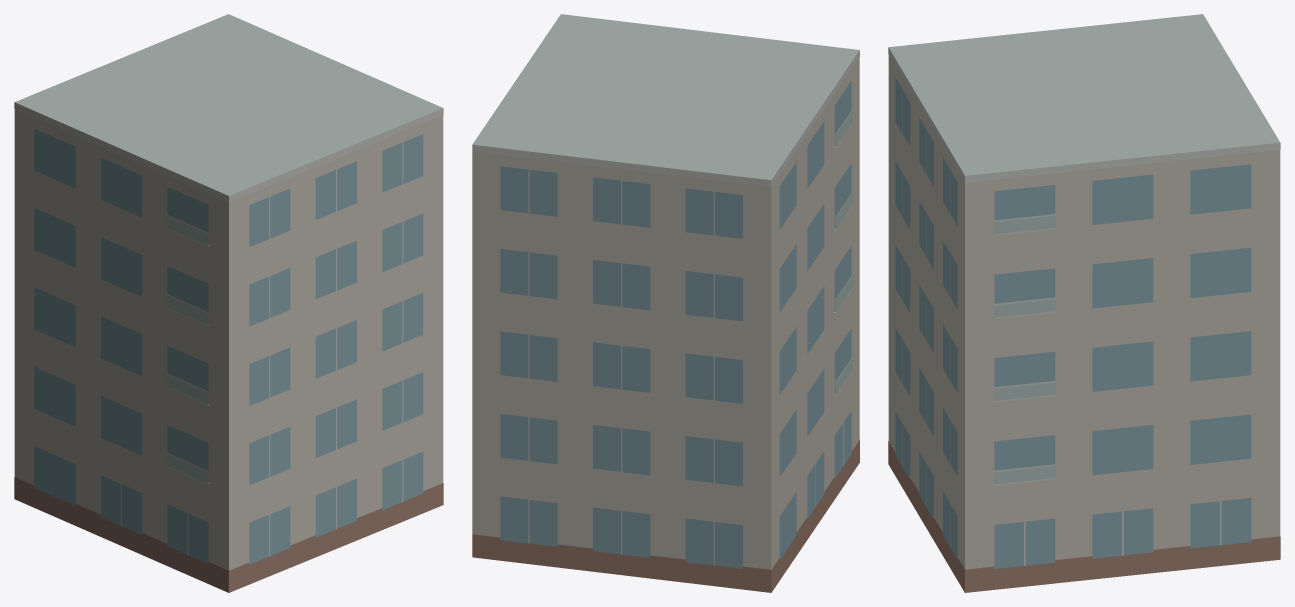
File: survey-upis-32710097.glb
The picture shows the model from 3 angles, left to right: view 1: azimuth 30°, elevation 25°; view 2: azimuth 150°, elevation 25°; view 3: azimuth 270°, elevation 25°; orthographic projection. The views are drawn at different scales.
Visible parts, largest first — view 1: survey-upis-32710097.tmp; view 2: survey-upis-32710097.tmp; view 3: survey-upis-32710097.tmp.
Boxes of the visible parts, <box> form: survey-upis-32710097.tmp: <box>14,14,443,592</box>; survey-upis-32710097.tmp: <box>472,14,859,592</box>; survey-upis-32710097.tmp: <box>888,14,1280,592</box>.
Bounding box in the file's own units: 12.16 × 14.6 × 12.45.
